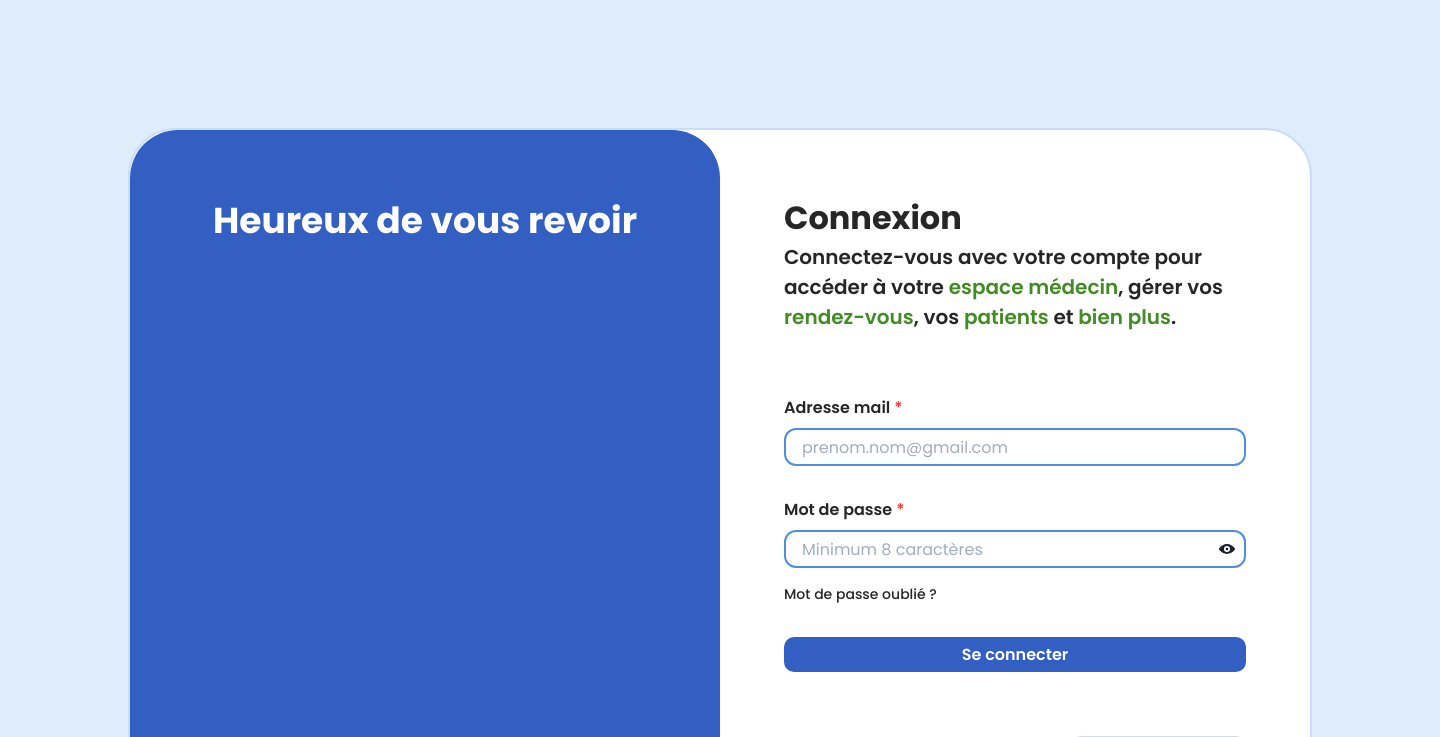
it: Login Page tests - Desktop › Working page › Not real email address
Type "prenom.nomtest.fr" into the field with id "edgar-loginPage-formEmail-input" at (1015, 447), box [784,428,1246,466]
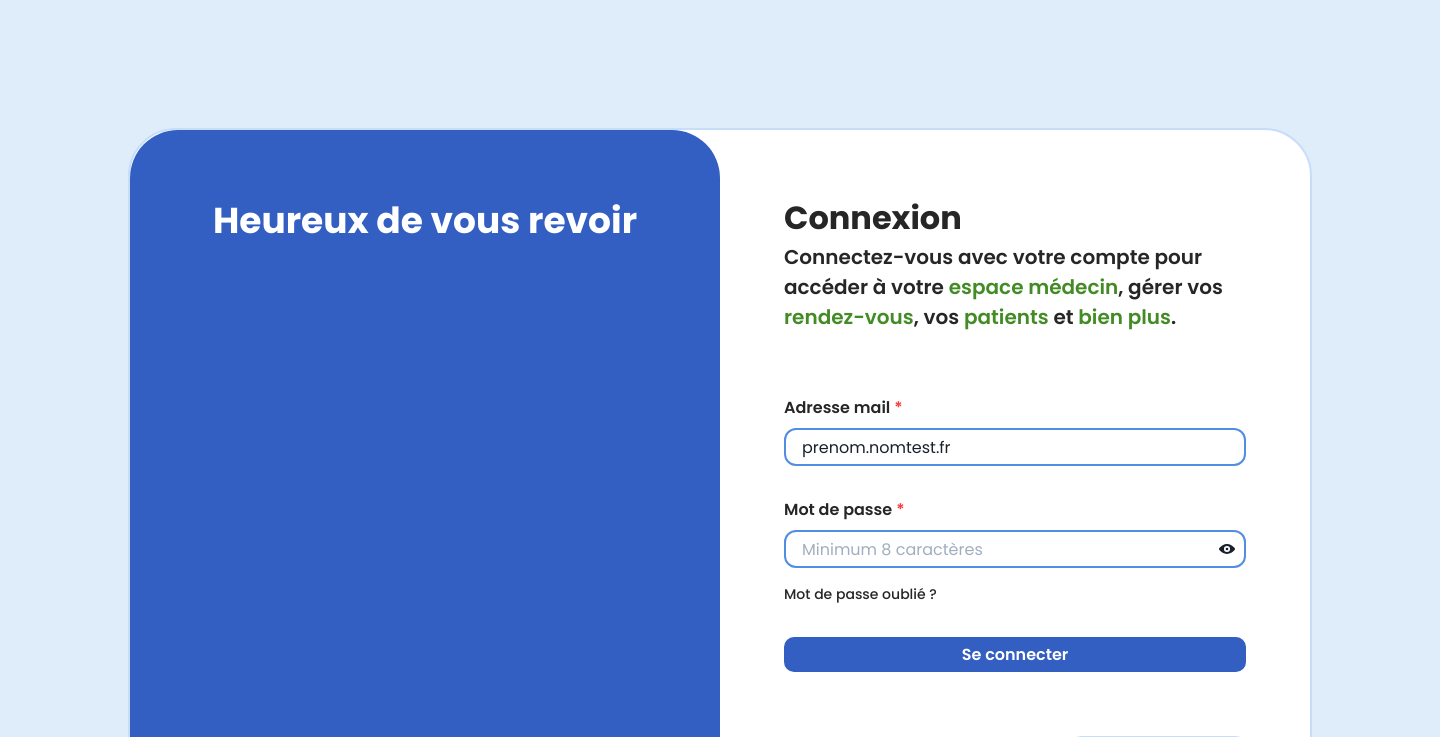
Type "testtest" into the field with id "edgar-loginPage-formEmail-input" at (1015, 447), box [784,428,1246,466]
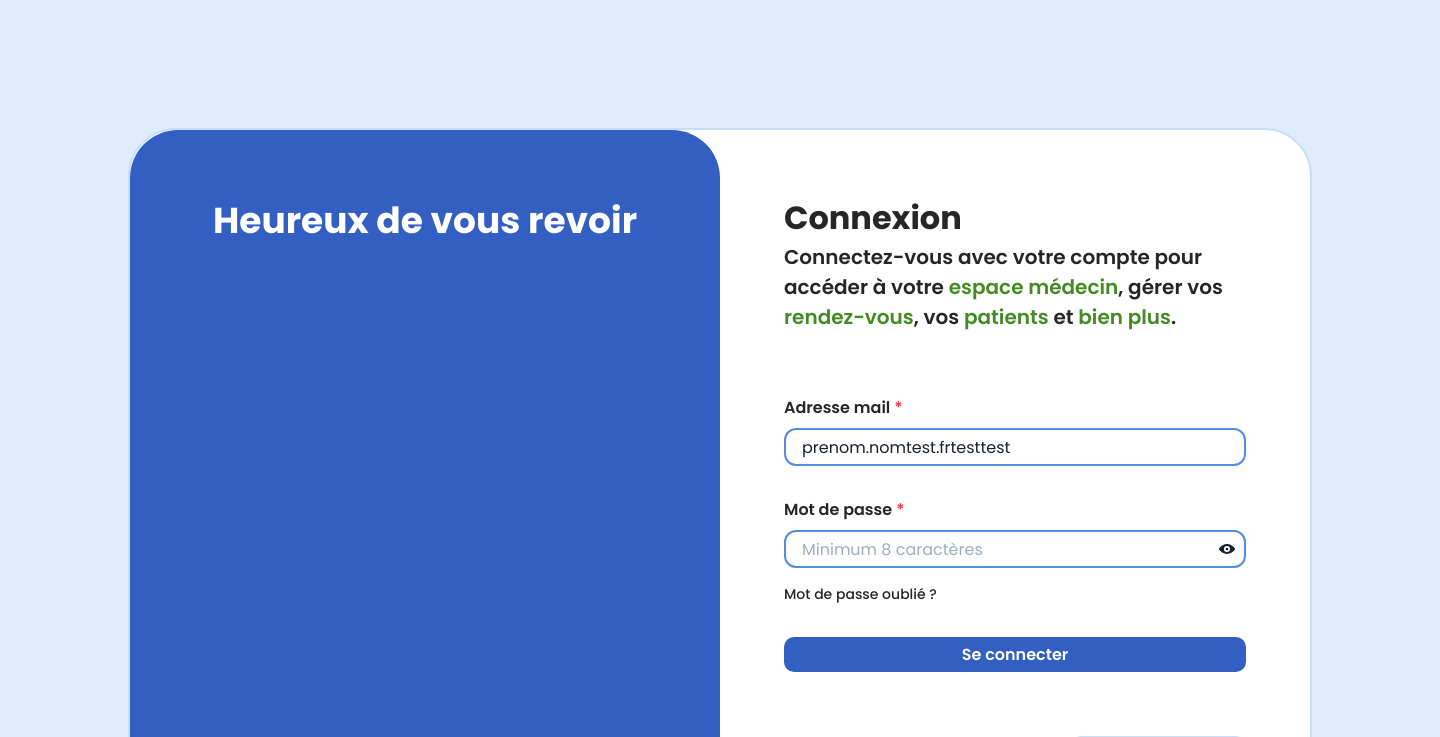
Click the button with id "edgar-loginPage-form-button" at (1015, 655), box [784,637,1246,672]
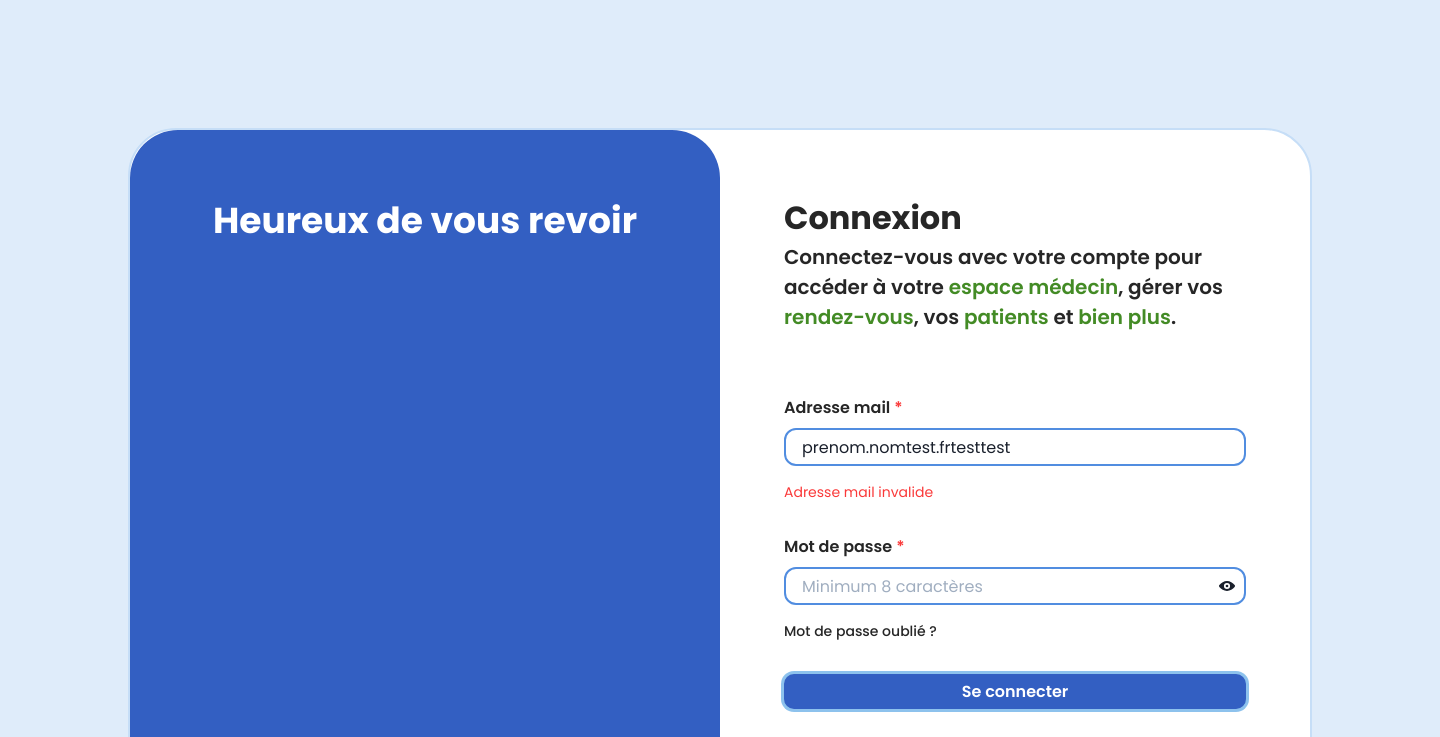
Result: the text with id "edgar-loginPage-formEmailError-text" reads "Adresse mail invalide" at [784,482,933,503]
